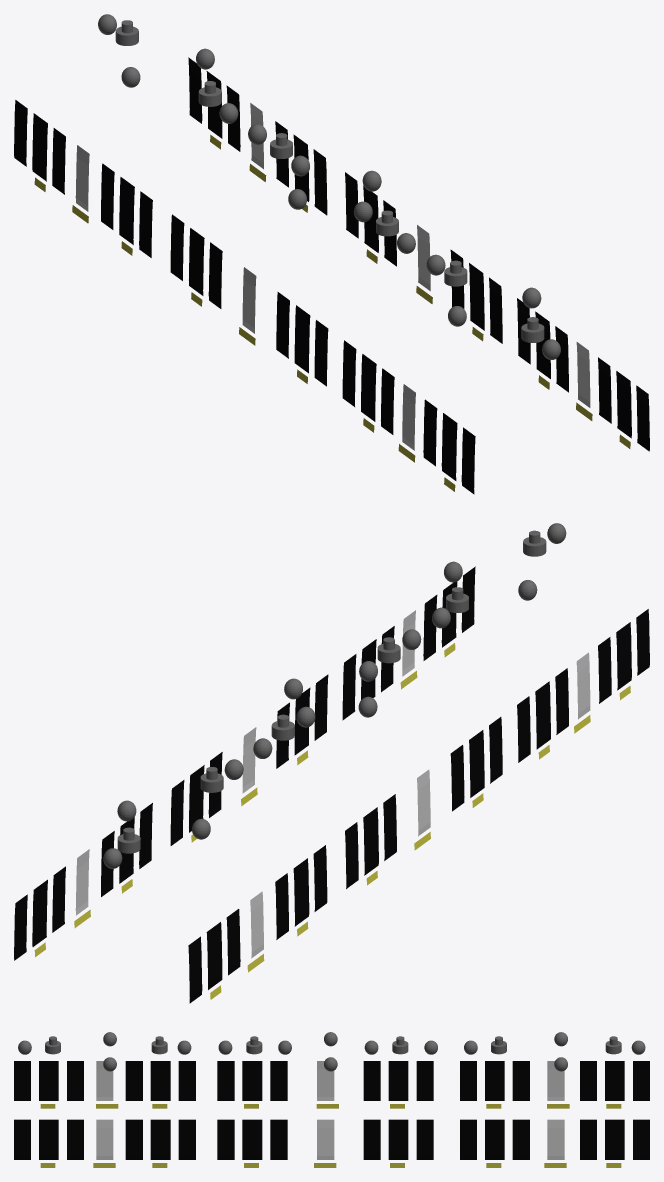
The model's file is lswr-48ft-lav-tricomposite-windows.dae.
The picture shows the model from 3 angles, top to bottom: view 1: azimuth 30°, elevation 25°; view 2: azimuth 150°, elevation 25°; view 3: azimuth 270°, elevation 25°; orthographic projection. The views are drawn at different scales.
Parts seen in each view (by area): view 1: Plane_671, Plane_682, Plane_730, Plane_655, Plane_709, Plane_722, Plane_679, Plane_674, Plane_670, Plane_672, Plane_683, Plane_677 (+21 smaller); view 2: Plane_655, Plane_671, Plane_709, Plane_682, Plane_730, Plane_722, Plane_727, Plane_729, Plane_702, Plane_723, Plane_731, Plane_677 (+20 smaller); view 3: Plane_658, Plane_679, Plane_712, Plane_655, Plane_682, Plane_709, Plane_674, Plane_719, Plane_727, Plane_671, Plane_722, Plane_730 (+30 smaller).
Boxes of the visible parts, x1=… form: Plane_671: x1=441, y1=413, x2=457, y2=480; Plane_682: x1=294, y1=305, x2=310, y2=373; Plane_730: x1=32, y1=113, x2=47, y2=181; Plane_655: x1=361, y1=354, x2=376, y2=421; Plane_709: x1=189, y1=228, x2=204, y2=295; Plane_722: x1=119, y1=177, x2=134, y2=244; Plane_679: x1=469, y1=263, x2=484, y2=330; Plane_674: x1=616, y1=371, x2=631, y2=438; Plane_670: x1=461, y1=427, x2=475, y2=494; Plane_672: x1=423, y1=399, x2=437, y2=466; Plane_683: x1=314, y1=320, x2=328, y2=386; Plane_677: x1=242, y1=267, x2=256, y2=333; Plane_655: x1=535, y1=681, x2=550, y2=749; Plane_671: x1=616, y1=622, x2=631, y2=690; Plane_709: x1=363, y1=807, x2=378, y2=875; Plane_682: x1=469, y1=730, x2=484, y2=797; Plane_730: x1=206, y1=922, x2=222, y2=989; Plane_722: x1=293, y1=858, x2=309, y2=926; Plane_727: x1=32, y1=879, x2=47, y2=946; Plane_729: x1=188, y1=936, x2=202, y2=1003; Plane_702: x1=576, y1=652, x2=590, y2=719; Plane_723: x1=313, y1=845, x2=327, y2=911; Plane_731: x1=226, y1=909, x2=240, y2=975; Plane_677: x1=417, y1=769, x2=430, y2=836; Plane_658: x1=150, y1=1119, x2=170, y2=1159; Plane_679: x1=242, y1=1119, x2=262, y2=1159; Plane_712: x1=388, y1=1119, x2=408, y2=1159; Plane_655: x1=150, y1=1061, x2=170, y2=1100; Plane_682: x1=242, y1=1061, x2=262, y2=1100; Plane_709: x1=388, y1=1061, x2=408, y2=1100; Plane_674: x1=39, y1=1119, x2=58, y2=1159; Plane_719: x1=485, y1=1119, x2=504, y2=1159; Plane_727: x1=605, y1=1119, x2=624, y2=1159; Plane_671: x1=39, y1=1061, x2=58, y2=1100; Plane_722: x1=485, y1=1061, x2=504, y2=1100; Plane_730: x1=605, y1=1061, x2=624, y2=1100.
Size of the model in its own units: 1.76 by 7.97 by 1.38.
